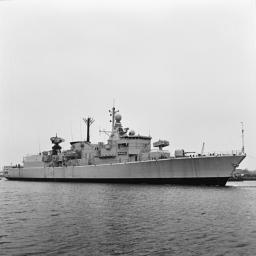Fragata: (3, 98, 250, 189)
